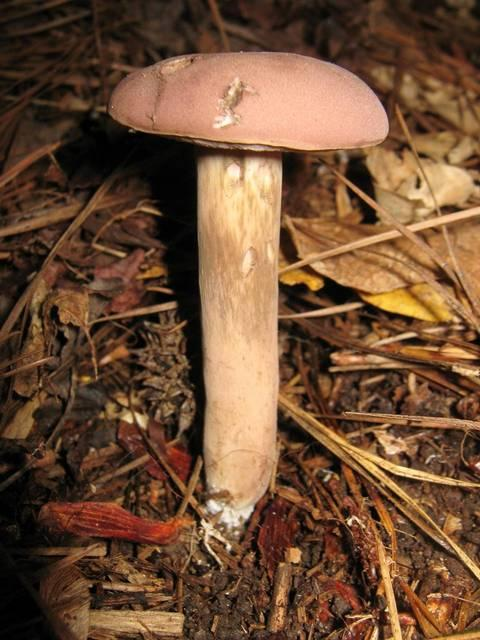poisonous_mushroom: (106, 49, 390, 542)
